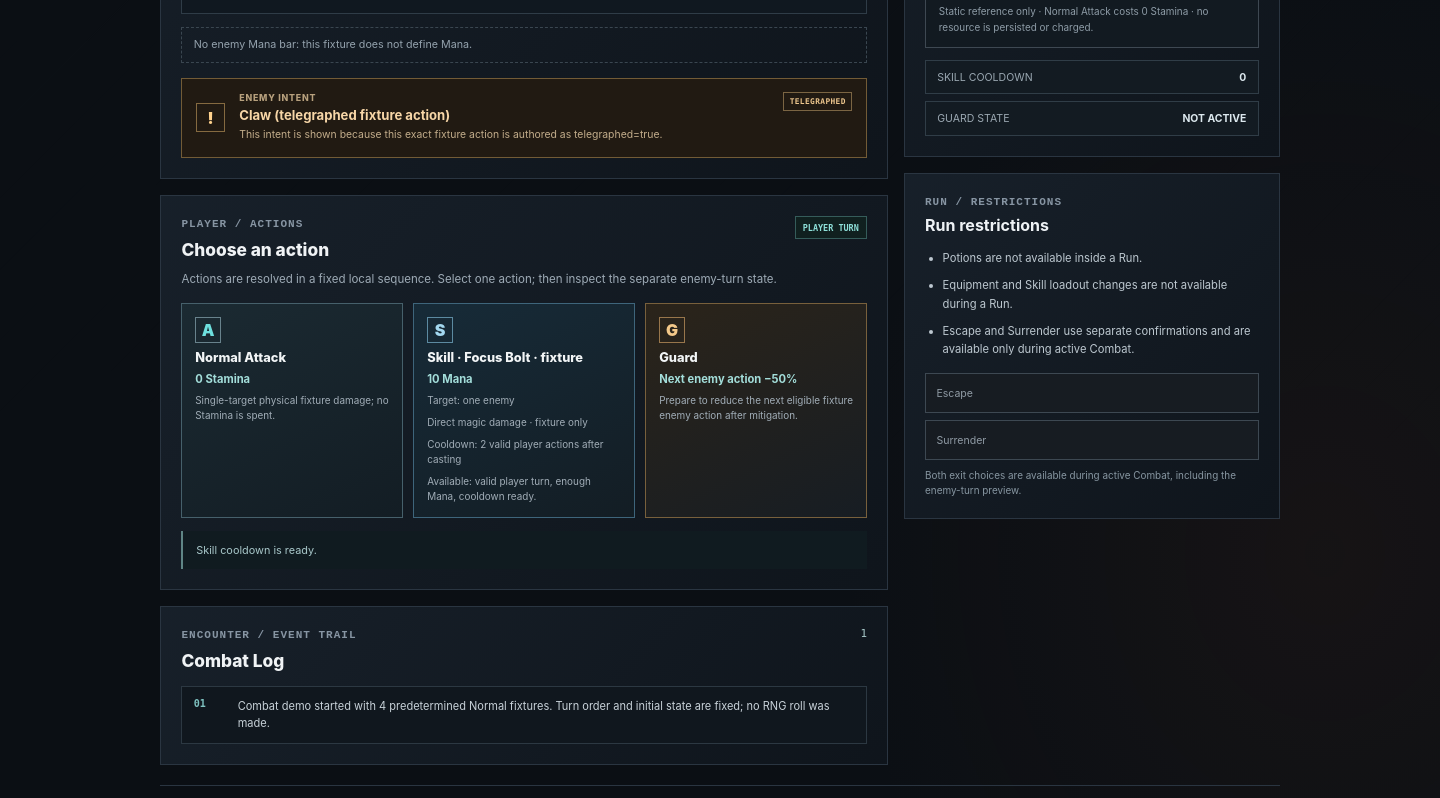
Test case: P1-UI-006 Escape and Surrender confirmations › cancels Escape without changing combat resources, turn, enemy or focus context
(page scrolled)
Click the button with test id "combat-action-escape" at (955, 393), box [925, 373, 1258, 413]
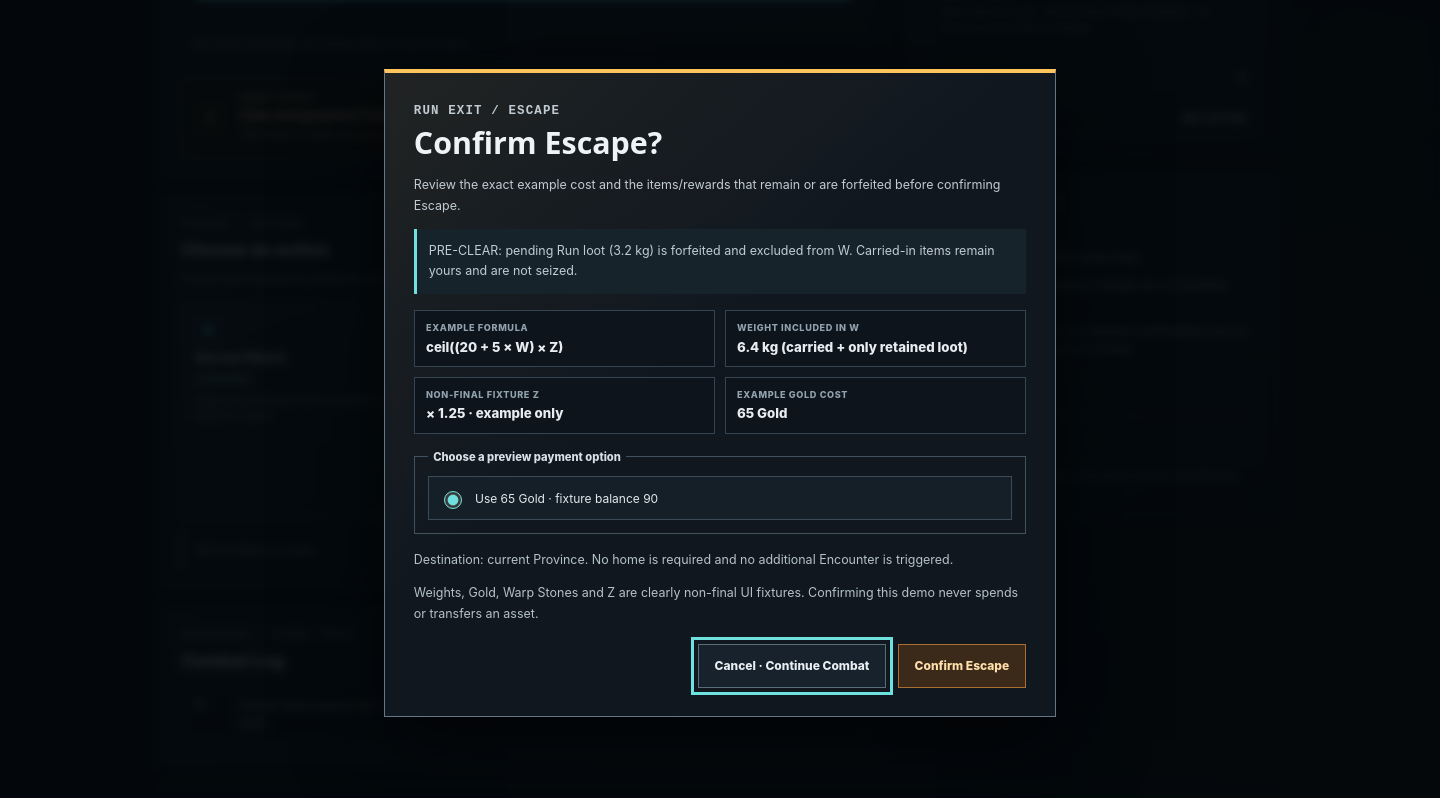
Expected: the dialog "Confirm Escape?" is shown
Expected: the text with test id "combat-escape-gold-cost" reads "65 Gold", [737, 405, 788, 421]
Expected: the text "pending Run loot (3.2 kg) is forfeited and excluded from W" is shown, [429, 243, 995, 278]
Press Escape in the dialog with test id "combat-exit-dialog", box [384, 69, 1056, 718]
(page scrolled)
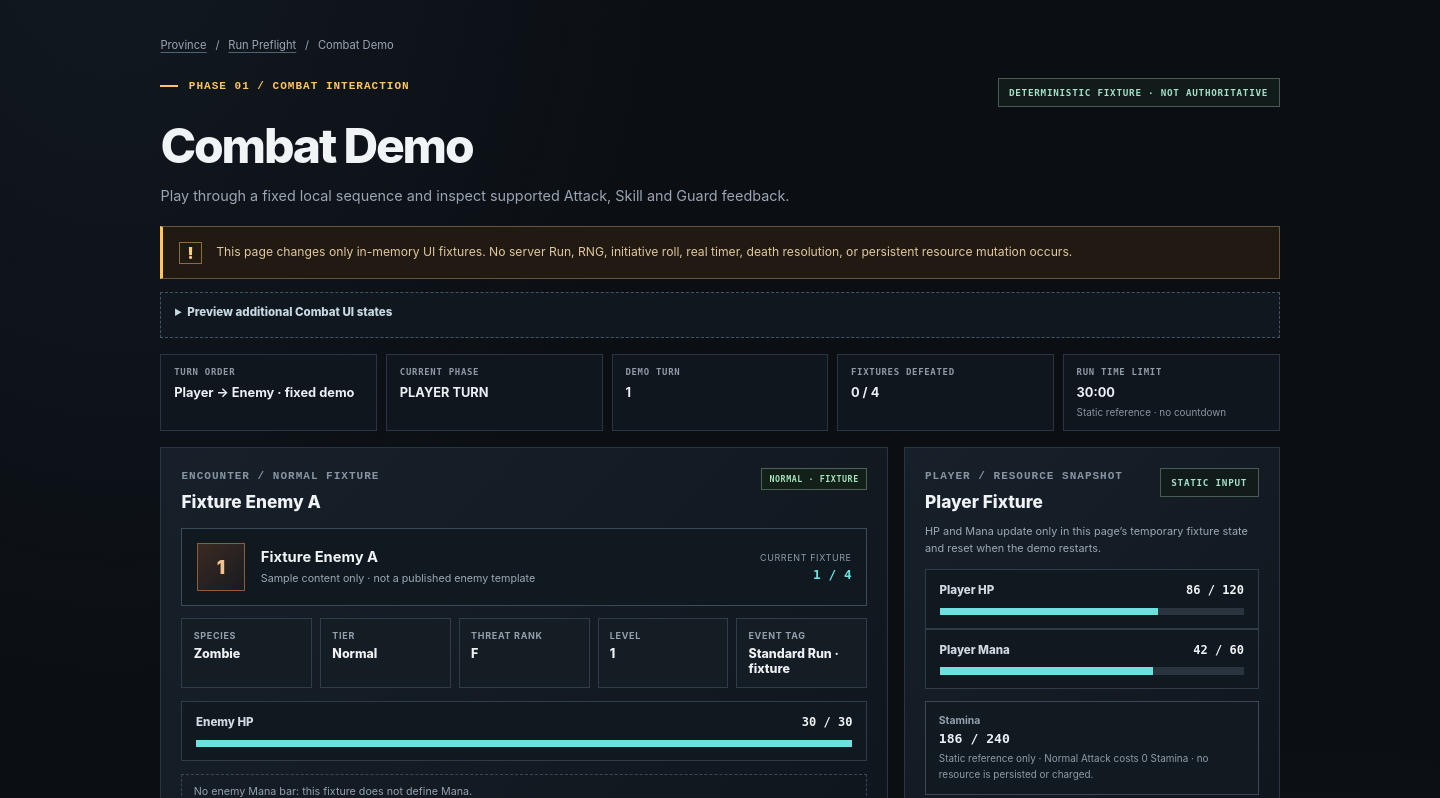
Expected: the progress indicator named "Player HP" holds "86", [940, 608, 1244, 615]
Expected: the dialog is gone
